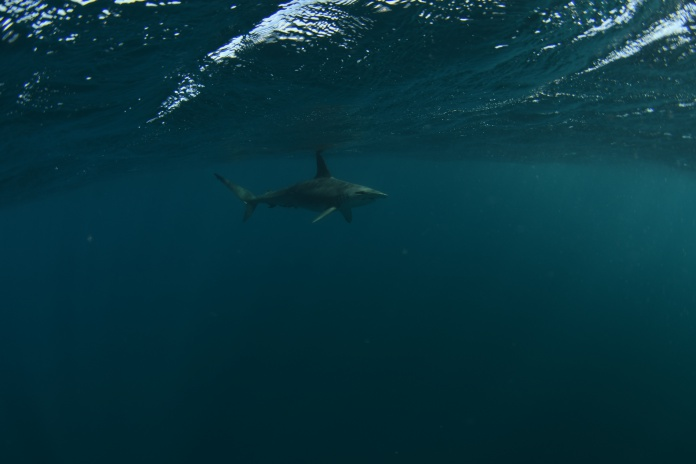Hammer: (200, 146, 399, 246)
